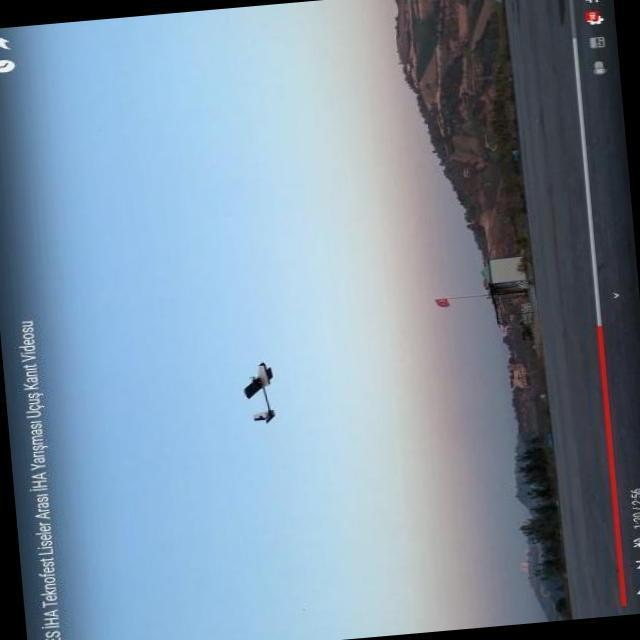iha: (238, 310, 286, 454)
